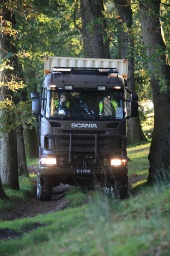truck: (35, 53, 133, 203)
